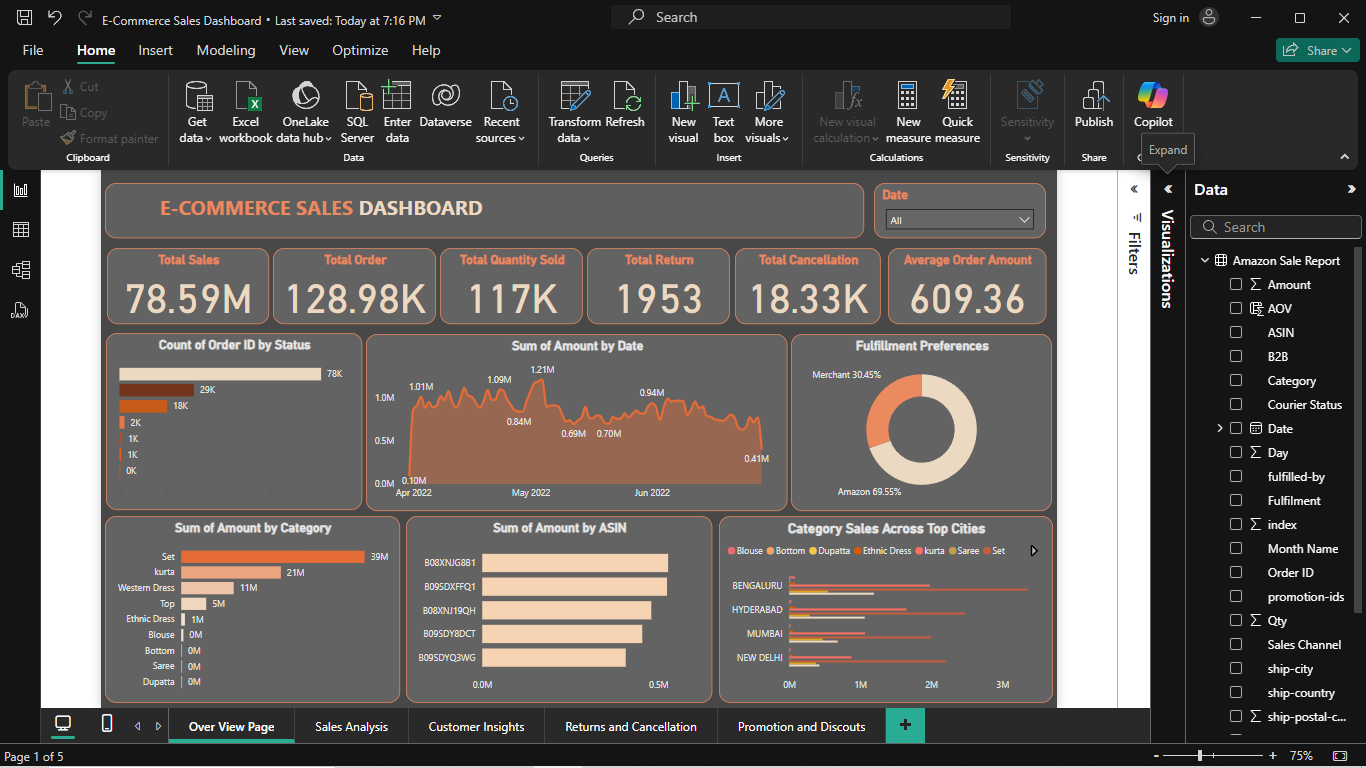

This screenshot's page, from the dashboard's own definition file:
{"tool":"powerbi","page":{"name":"Over View Page","canvas":[1280,720],"ordinal":0},"visuals":[{"type":"slicer","title":"Date","fields":{"Values":["Amazon Sale Report.Month Name","Amazon Sale Report.Day"]},"box":[1034.8,16.8,230.1,73.9],"z":0},{"type":"card","title":"Total Sales","fields":{"Values":["Sum(Amazon Sale Report.Amount)"]},"box":[8.4,104.1,216.7,102.5],"z":1000},{"type":"shape","box":[5,16.8,1016.3,73.9],"z":2000},{"type":"textbox","box":[73.9,26.9,475.4,48.7],"z":3000},{"type":"card","title":"Total Order","fields":{"Values":["CountNonNull(Amazon Sale Report.Order ID)"]},"box":[230.1,104.1,218.4,102.5],"z":4000},{"type":"card","title":"Total Quantity Sold","fields":{"Values":["Sum(Amazon Sale Report.Qty)"]},"box":[453.5,104.1,191.5,102.5],"z":5000},{"type":"card","title":"Total Return","fields":{"Values":["CountNonNull(Amazon Sale Report.Order ID)"]},"box":[650.1,104.1,191.5,102.5],"z":6000},{"type":"card","title":"Total Cancellation","fields":{"Values":["CountNonNull(Amazon Sale Report.Order ID)"]},"box":[848.3,104.1,194.9,102.5],"z":7000},{"type":"lineChart","fields":{"Category":["Amazon Sale Report.Date","Amazon Sale Report.Date.Variation.Date Hierarchy.Year"],"Y":["Sum(Amazon Sale Report.Amount)"]},"box":[354.4,220.1,564.4,236.9],"z":8000},{"type":"barChart","fields":{"Category":["Amazon Sale Report.Status"],"Y":["CountNonNull(Amazon Sale Report.Order ID)"]},"box":[6.7,218.4,342.7,236.9],"z":9000},{"type":"card","title":"Average Order Amount","fields":{"Values":["Avg(Amazon Sale Report.Amount)"]},"box":[1053.2,104.1,211.7,102.5],"z":10000},{"type":"barChart","fields":{"Y":["Sum(Amazon Sale Report.Amount)"],"Category":["Amazon Sale Report.Category"]},"box":[5,463.6,394.8,250.3],"z":11000},{"type":"barChart","fields":{"Category":["Amazon Sale Report.ASIN"],"Y":["Sum(Amazon Sale Report.Amount)"]},"box":[408.2,463.6,409.9,250.3],"z":12000},{"type":"clusteredBarChart","title":"Category Sales Across  Top Cities","fields":{"Y":["Sum(Amazon Sale Report.Amount)"],"Series":["Amazon Sale Report.Category"],"Category":["Amazon Sale Report.ship-city"]},"box":[826.5,463.6,446.8,250.3],"z":13000},{"type":"donutChart","title":"Fulfillment Preferences","fields":{"Y":["CountNonNull(Amazon Sale Report.Order ID)"],"Category":["Amazon Sale Report.Fulfilment"]},"box":[923.9,220.1,349.4,236.9],"z":14000}]}

Visuals, with their boxes on the page's 1280x720 design canvas (x1, y1, x2, y2). These are canvas units, not pixel positions in the 1366x768 screenshot, which may show the page scaled, cropped or inside an application window:
"Date" slicer: BBox(1035, 17, 1265, 91)
"Total Sales" card: BBox(8, 104, 225, 207)
shape: BBox(5, 17, 1021, 91)
textbox: BBox(74, 27, 549, 76)
"Total Order" card: BBox(230, 104, 448, 207)
"Total Quantity Sold" card: BBox(454, 104, 645, 207)
"Total Return" card: BBox(650, 104, 842, 207)
"Total Cancellation" card: BBox(848, 104, 1043, 207)
lineChart - Amazon Sale Report.Date x Amazon Sale Report.Date.Variation.Date Hierarchy.Year: BBox(354, 220, 919, 457)
barChart - Amazon Sale Report.Status x CountNonNull(Amazon Sale Report.Order ID): BBox(7, 218, 349, 455)
"Average Order Amount" card: BBox(1053, 104, 1265, 207)
barChart - Sum(Amazon Sale Report.Amount) x Amazon Sale Report.Category: BBox(5, 464, 400, 714)
barChart - Amazon Sale Report.ASIN x Sum(Amazon Sale Report.Amount): BBox(408, 464, 818, 714)
"Category Sales Across  Top Cities" clusteredBarChart: BBox(826, 464, 1273, 714)
"Fulfillment Preferences" donutChart: BBox(924, 220, 1273, 457)
